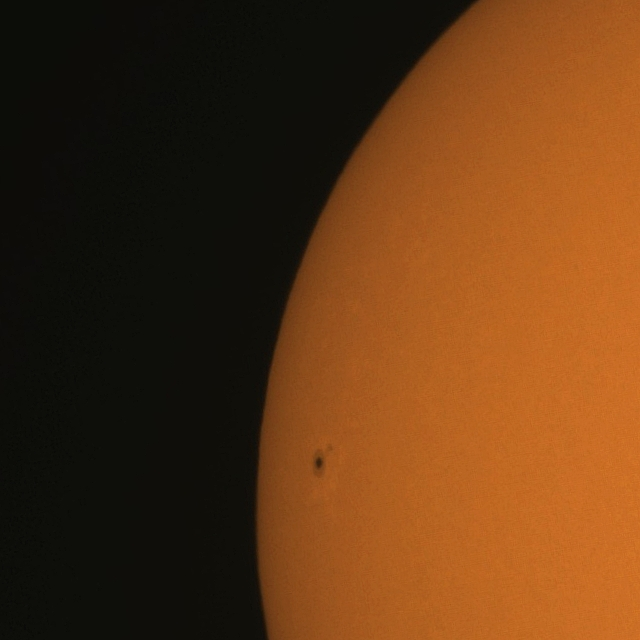sunspot: (312, 441, 334, 477)
